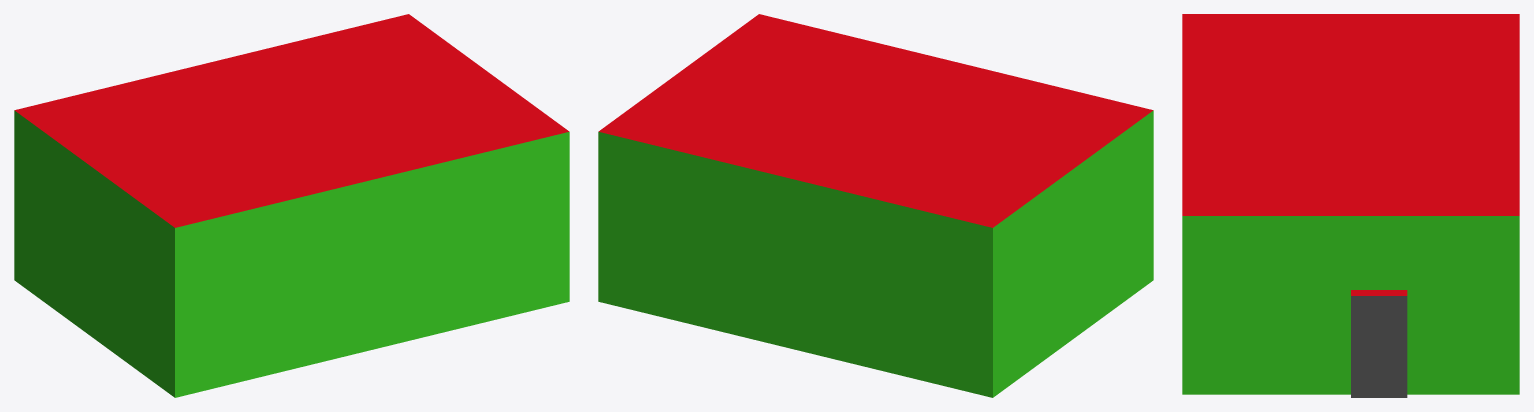
File: Floor2_LivingAreaRadioMesh.gltf
3 views of the same model, side by side, from view 1: azimuth 30°, elevation 25°; view 2: azimuth 150°, elevation 25°; view 3: azimuth 270°, elevation 25° (orthographic). The views are drawn at different scales.
Parts seen in each view (by area): view 1: Floor2_LivingAreaRadioMesh2; view 2: Floor2_LivingAreaRadioMesh2; view 3: Floor2_LivingAreaRadioMesh2.
Part boxes in pixels (x1,y1,x2,y2): Floor2_LivingAreaRadioMesh2: (14,14,569,397); Floor2_LivingAreaRadioMesh2: (598,14,1153,397); Floor2_LivingAreaRadioMesh2: (1182,14,1519,397).
Bounding box in the file's own units: 17.5 × 7 × 12.
